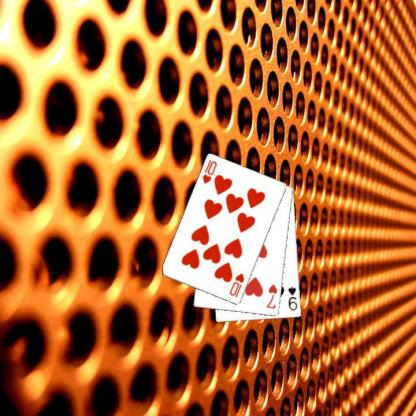10H: (227, 271, 246, 299), (200, 157, 218, 186)
7H: (264, 282, 279, 310)
9S: (286, 284, 299, 312)
